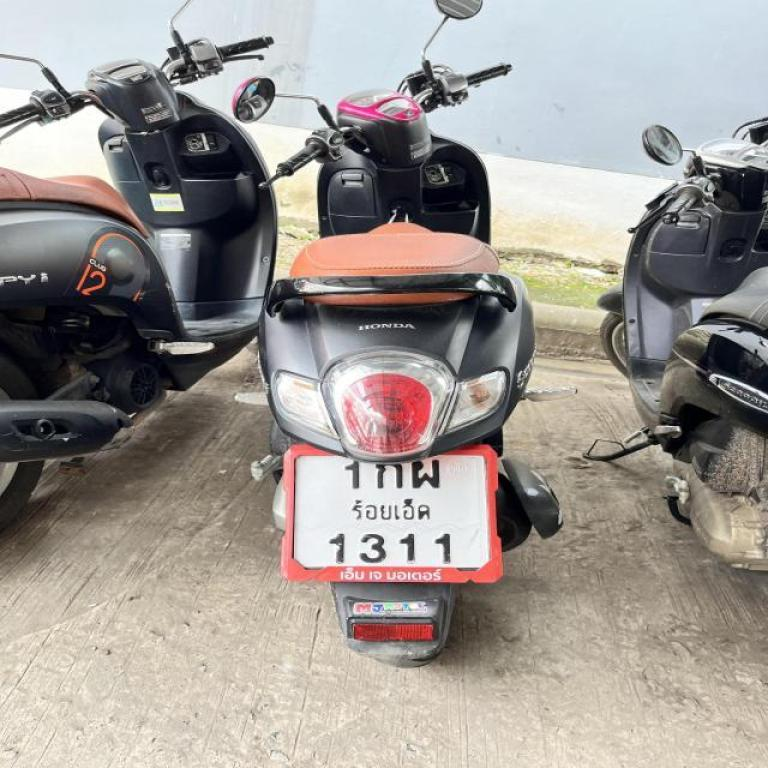license plate: (286, 446, 499, 583)
